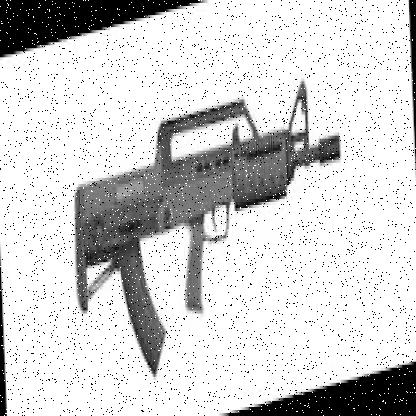rifle: (65, 58, 345, 398)
